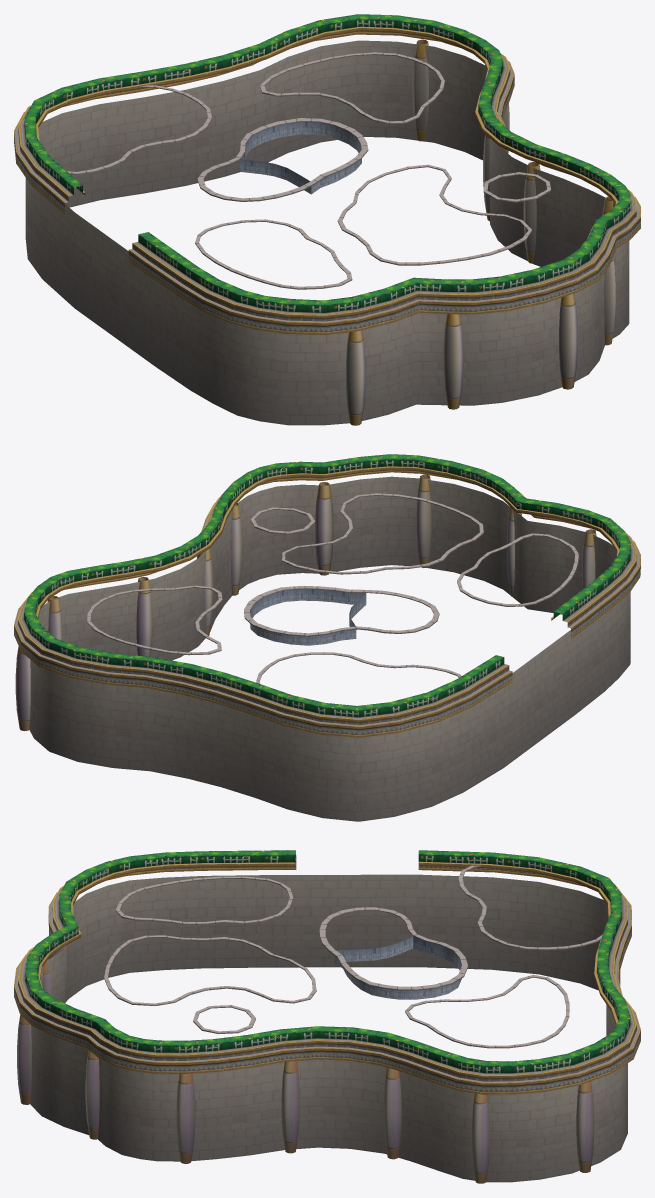
The model's file is zhucheng_gongyuan01.FBX.
3 renders of one model, top to bottom at view 1: azimuth 30°, elevation 25°; view 2: azimuth 150°, elevation 25°; view 3: azimuth 270°, elevation 25°, orthographic. The views are drawn at different scales.
Visible parts, largest first — view 1: zhucheng_gongyuan01; view 2: zhucheng_gongyuan01; view 3: zhucheng_gongyuan01.
Boxes of the visible parts, left/top/right/bottom form: zhucheng_gongyuan01: left=14, top=14, right=640, bottom=425; zhucheng_gongyuan01: left=14, top=454, right=640, bottom=821; zhucheng_gongyuan01: left=14, top=850, right=640, bottom=1183.
Size of the model in its own units: 3778 by 915 by 4461.
